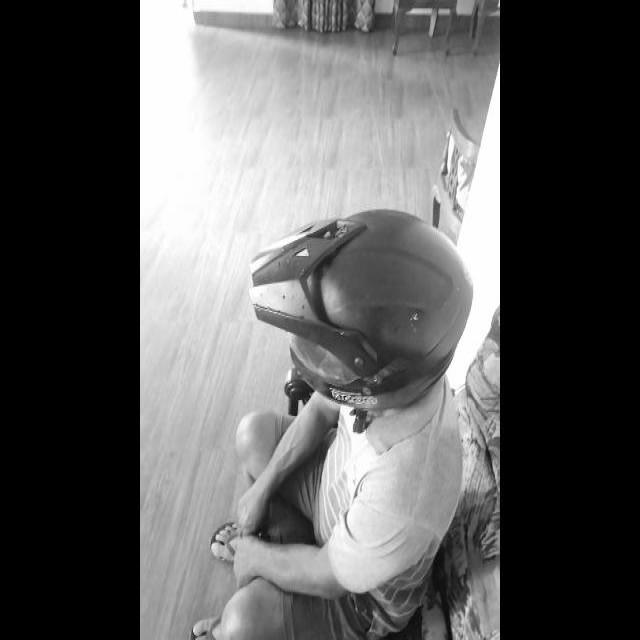5_casco: (250, 208, 476, 412)
